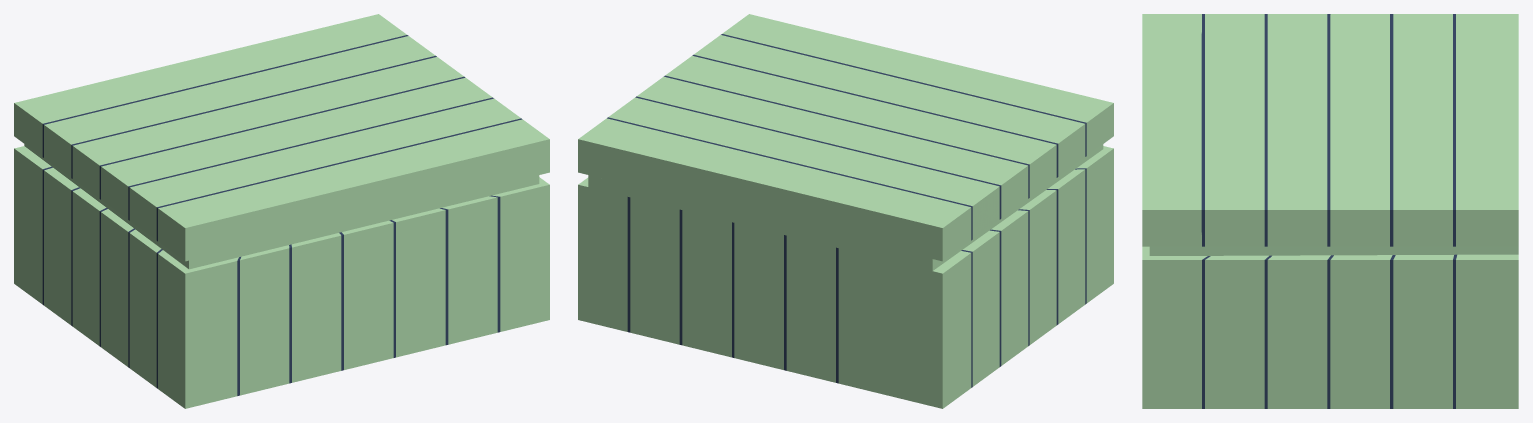
The picture shows the model from 3 angles, left to right: view 1: azimuth 30°, elevation 25°; view 2: azimuth 150°, elevation 25°; view 3: azimuth 270°, elevation 25°; orthographic projection. The views are drawn at different scales.
Visible parts, largest first — view 1: Cube.006; view 2: Cube.006; view 3: Cube.006.
Part boxes in pixels (x1,y1,x2,y2): Cube.006: (14,14,549,408); Cube.006: (578,14,1113,408); Cube.006: (1142,14,1518,408).
Size of the model in its own units: 1.18 by 0.5574 by 0.9556.
